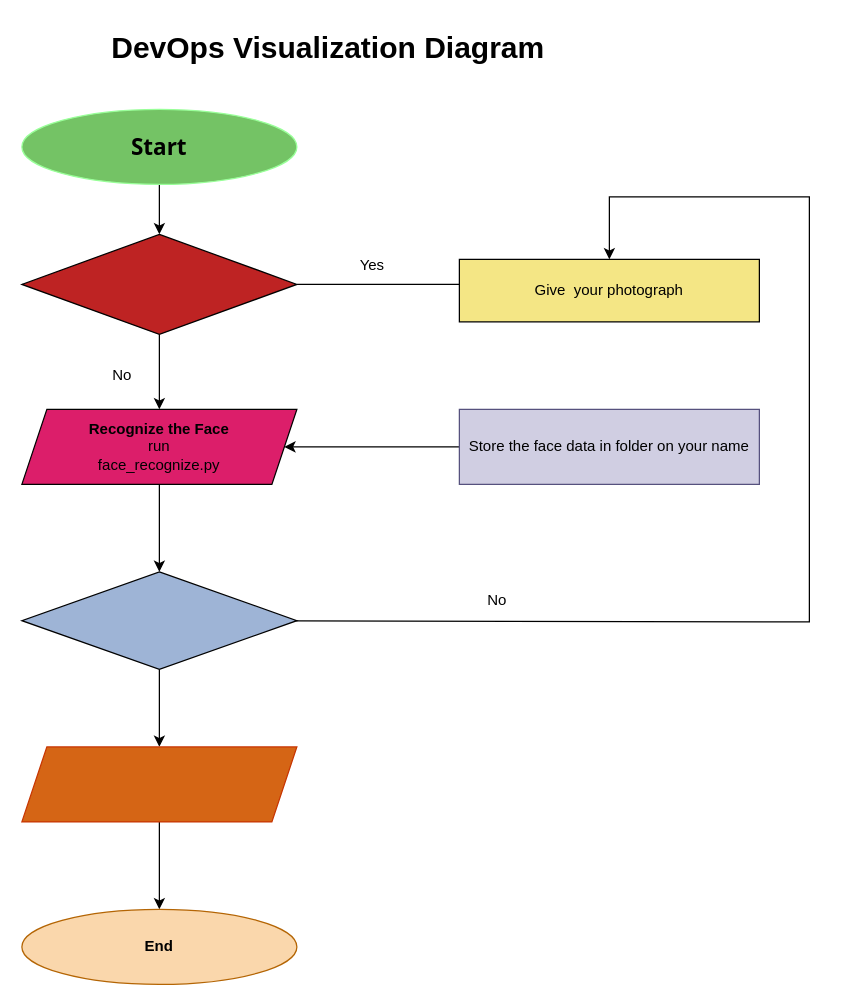
Image size: 841x1006. Some labels were removed from this diagram. The box of each missing label's shape, as (x1, y1, x2, y2) in pixels:
Face Recognized: (21, 571, 297, 669)
New user? run create_dataset.py: (21, 233, 297, 334)
Stored in csv file with registration Number & Date Time of Entry: (21, 746, 297, 822)
